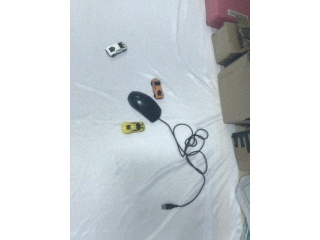box: (217, 47, 251, 126), (211, 22, 248, 66), (231, 129, 250, 176)
mouse: (127, 91, 162, 123)
toy_car: (105, 42, 128, 57), (121, 121, 146, 134), (151, 78, 164, 100)
